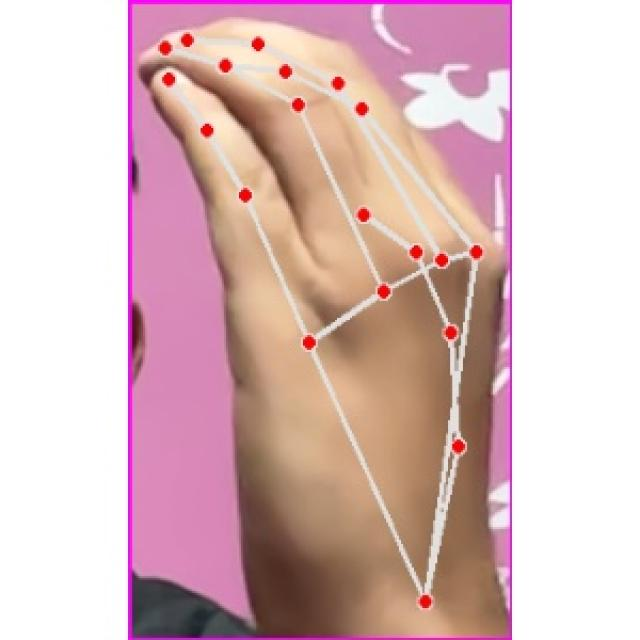C: (138, 13, 504, 640)
